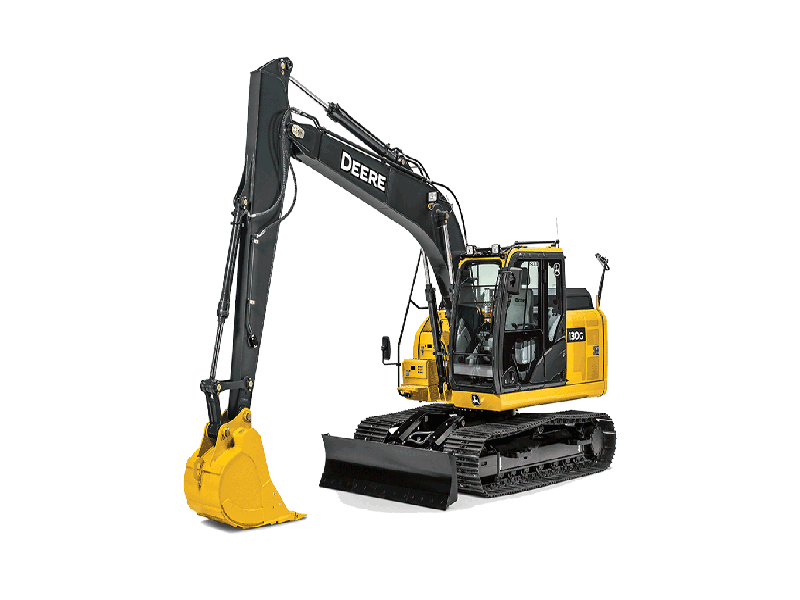shovel: (179, 52, 633, 535)
